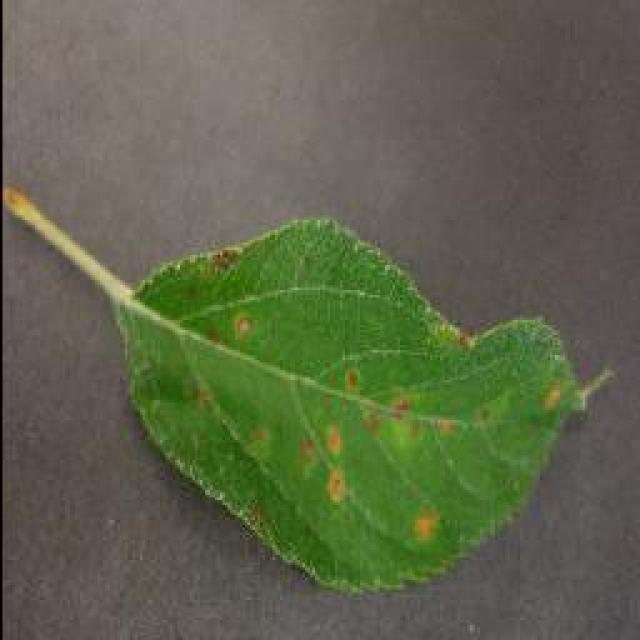apple rust disease: (2, 183, 612, 595)
